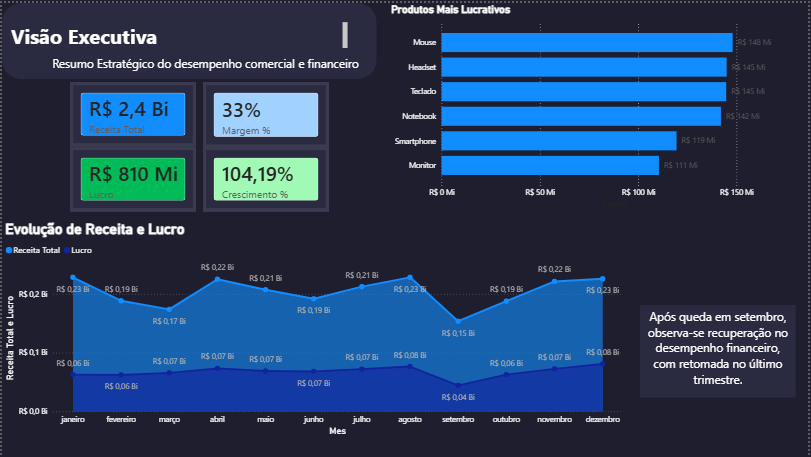

The page's visual inventory and layout, read from the dashboard file:
{"tool":"powerbi","page":{"name":"Executivo","canvas":[1280,720],"ordinal":0},"visuals":[{"type":"shape","box":[0,0,594.7,121],"z":0},{"type":"textbox","box":[10.1,25.9,544.3,51.8],"z":1000},{"type":"textbox","box":[74.9,77.8,509.8,36],"z":2000},{"type":"cardVisual","fields":{"Data":["Medidas.Receita Total"]},"box":[108.6,125.7,200,102.9],"z":3000},{"type":"cardVisual","fields":{"Data":["Medidas.Lucro"]},"box":[108.6,228.6,200,102.9],"z":4000},{"type":"cardVisual","fields":{"Data":["Medidas.Margem %"]},"box":[318.6,125.7,200,104.3],"z":5000},{"type":"cardVisual","fields":{"Data":["Medidas.Crescimento %"]},"box":[318.6,228.6,200,102.9],"z":6000},{"type":"lineChart","title":"Evolução de Receita e Lucro","fields":{"Y":["Medidas.Receita Total","Medidas.Lucro"],"Category":["Calendario.Mes"]},"box":[0,345.7,990,345.7],"z":7000},{"type":"clusteredBarChart","title":"Produtos Mais Lucrativos","fields":{"Category":["Fato_Vendas.Produto"],"Y":["Medidas.Lucro"]},"box":[612.9,0,667.1,331.4],"z":8000},{"type":"textbox","box":[1012.9,480,247.1,147.1],"z":9000}]}

Visuals, with their boxes in screenshot pixels (x1, y1, x2, y2), scaled from the page's 1280x720 canvas onto the 811x457 screenshot:
shape: [x1=0, y1=0, x2=377, y2=77]
textbox: [x1=6, y1=16, x2=351, y2=49]
textbox: [x1=47, y1=49, x2=370, y2=72]
cardVisual - Medidas.Receita Total: [x1=69, y1=80, x2=196, y2=145]
cardVisual - Medidas.Lucro: [x1=69, y1=145, x2=196, y2=210]
cardVisual - Medidas.Margem %: [x1=202, y1=80, x2=329, y2=146]
cardVisual - Medidas.Crescimento %: [x1=202, y1=145, x2=329, y2=210]
"Evolução de Receita e Lucro" lineChart: [x1=0, y1=219, x2=627, y2=439]
"Produtos Mais Lucrativos" clusteredBarChart: [x1=388, y1=0, x2=810, y2=210]
textbox: [x1=642, y1=305, x2=798, y2=398]
